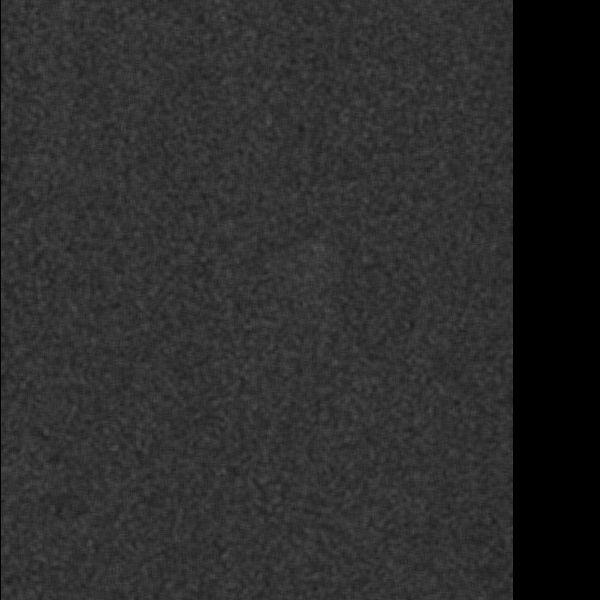spark: (306, 238, 328, 275)
